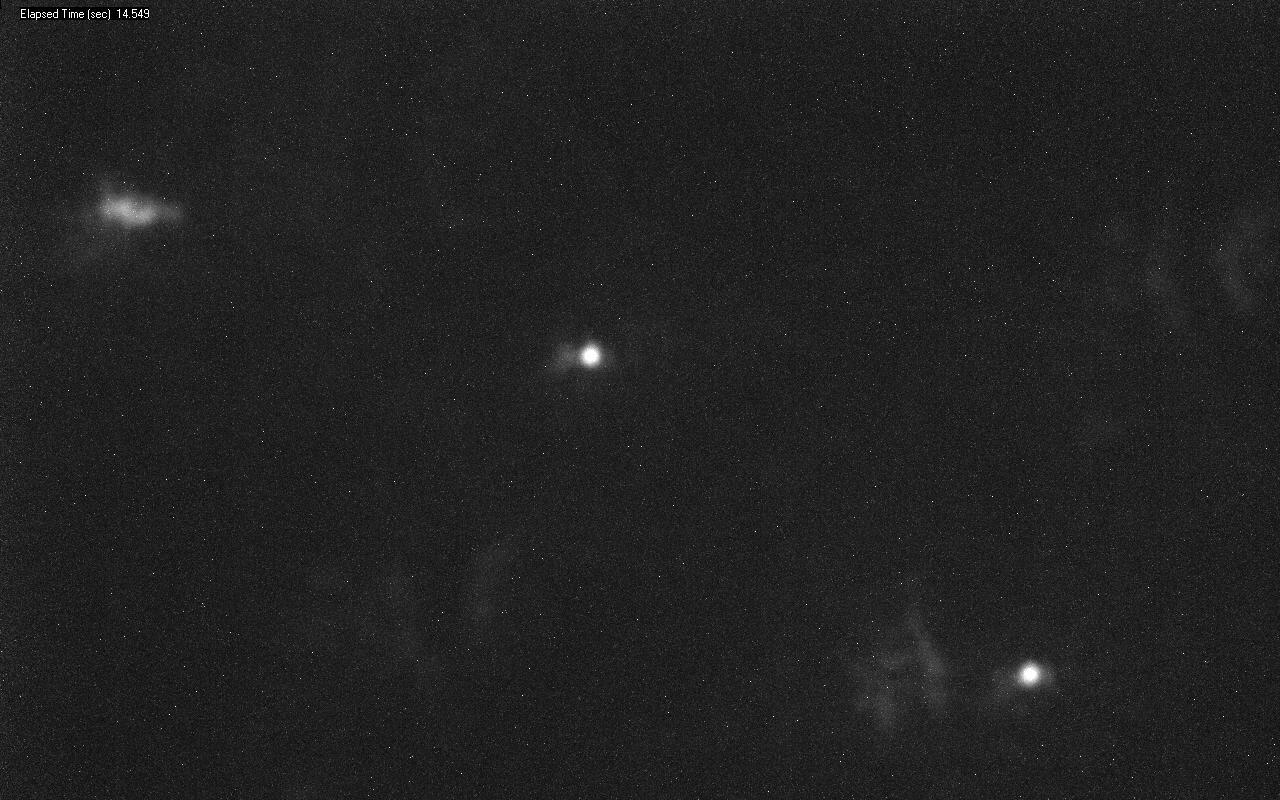Bead: (579, 344, 601, 366), (1019, 663, 1040, 685)
